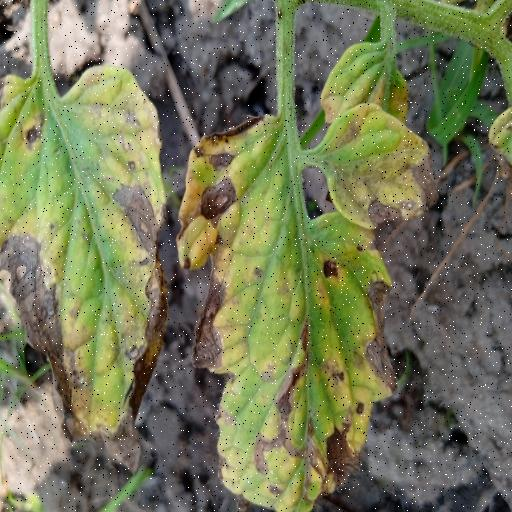Tomato_Brown_Spots: (179, 97, 442, 512), (0, 60, 178, 474)
